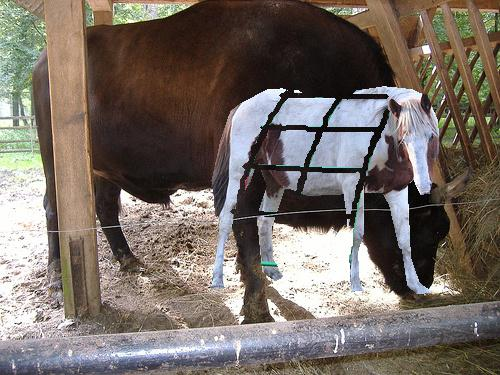tampered: (212, 87, 439, 294)
